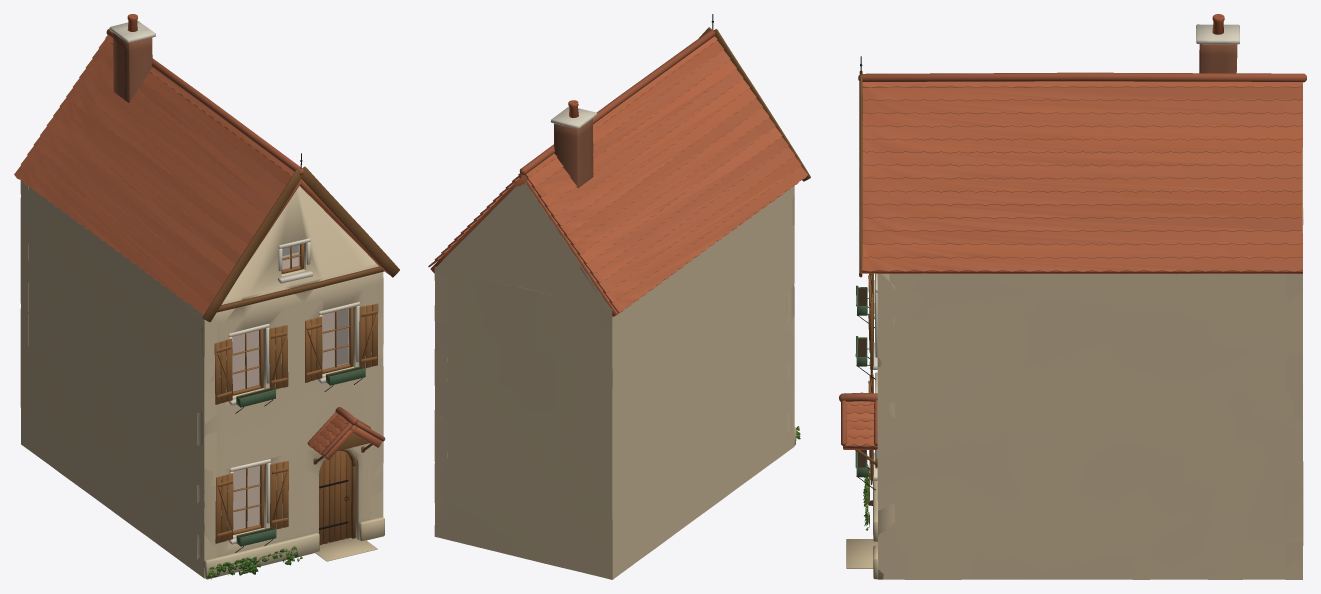
The model's file is Opposite_Opposite2_5.glb.
The picture shows the model from 3 angles, left to right: view 1: azimuth 30°, elevation 25°; view 2: azimuth 150°, elevation 25°; view 3: azimuth 270°, elevation 25°; orthographic projection. The views are drawn at different scales.
Visible parts, largest first — view 1: Sammel Putz, Sammel Stein, Sammel Holz, Glas, Sammel Putz innen, Sammel Ziegel, Sammel Lack, Sammel Pflanze; view 2: Sammel Putz, Sammel Stein, Sammel Ziegel, Sammel Holz; view 3: Sammel Putz, Sammel Stein, Sammel Holz, Sammel Ziegel, Sammel Lack.
Part boxes in pixels (x1,y1,x2,y2): Sammel Putz: [20, 14, 383, 579]; Sammel Stein: [14, 28, 389, 579]; Sammel Holz: [202, 166, 399, 544]; Glas: [232, 245, 348, 530]; Sammel Putz innen: [232, 252, 348, 530]; Sammel Ziegel: [113, 33, 152, 102]; Sammel Lack: [236, 366, 366, 546]; Sammel Pflanze: [207, 546, 302, 578]; Sammel Putz: [434, 100, 797, 579]; Sammel Stein: [428, 29, 807, 445]; Sammel Ziegel: [554, 119, 593, 187]; Sammel Holz: [699, 27, 810, 181]; Sammel Putz: [858, 14, 1303, 579]; Sammel Stein: [839, 72, 1306, 579]; Sammel Holz: [855, 71, 877, 484]; Sammel Ziegel: [1199, 44, 1237, 73]; Sammel Lack: [855, 285, 867, 477].
Size of the model in its own units: 4.95 by 10.56 by 8.81.
